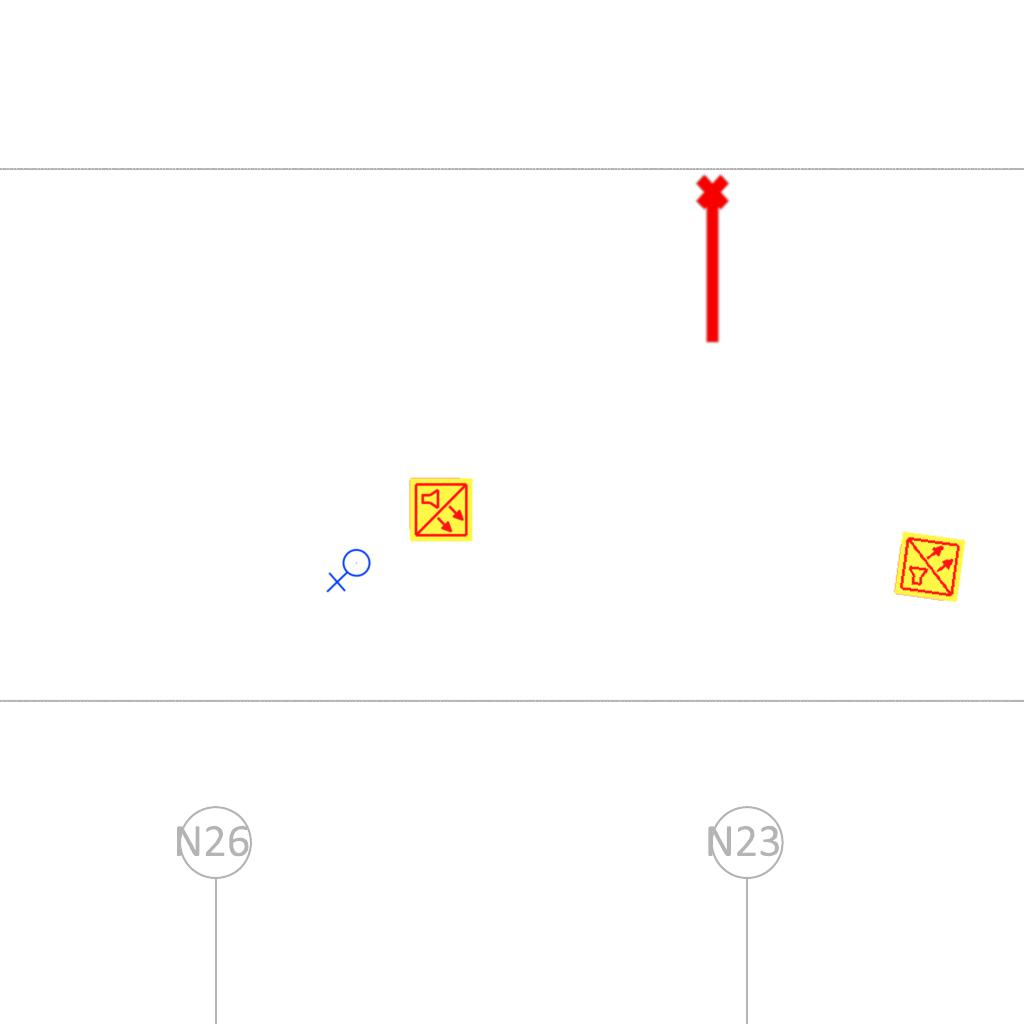ASR_Ansaugoeffnung: (692, 172, 738, 348)
Elektroanschluss_allgemein_230V_Geraeteanschlussdose_230V: (326, 548, 375, 595)
OKW_Multisensormelder_(Kombination_optischer_Rauch-Kahlenmonoxid_Waerme-Melder): (892, 529, 968, 605), (408, 477, 474, 543)
